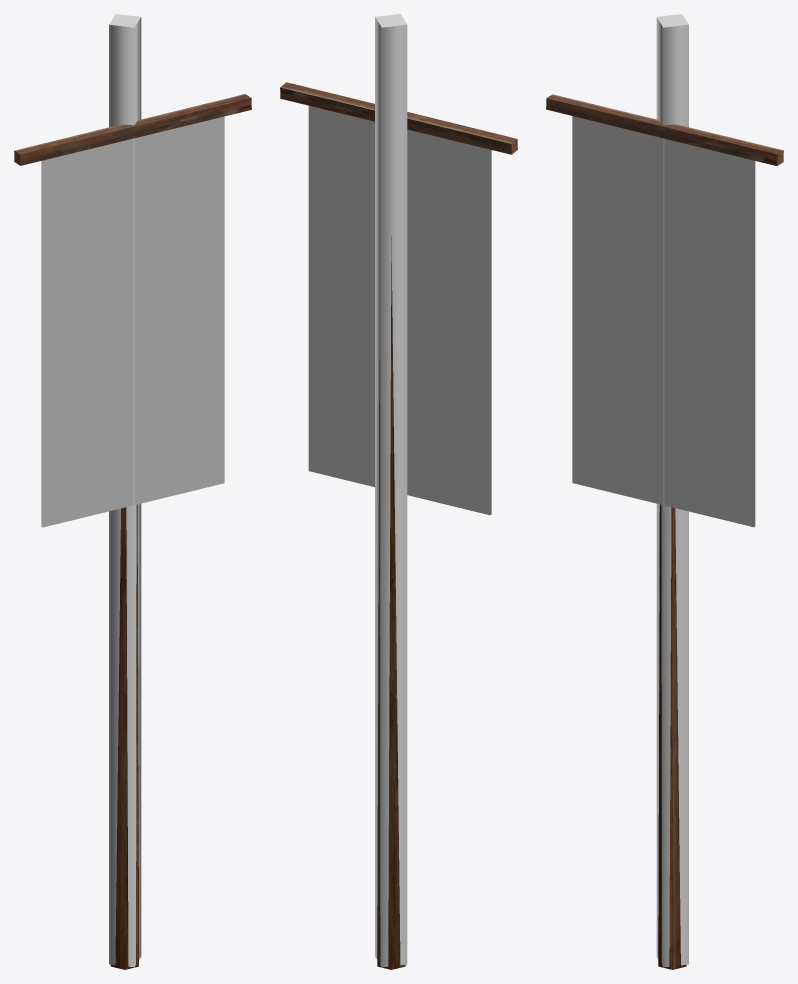
Rendered from YHJ_qizi.FBX.
The picture shows the model from 3 angles, left to right: view 1: azimuth 30°, elevation 25°; view 2: azimuth 150°, elevation 25°; view 3: azimuth 330°, elevation 25°; orthographic projection.
Visible parts, largest first — view 1: YHJ_qizi_b, YHJ_qizi_a-col, YHJ_qizi_a; view 2: YHJ_qizi_b, YHJ_qizi_a-col, YHJ_qizi_a; view 3: YHJ_qizi_b, YHJ_qizi_a-col, YHJ_qizi_a.
Boxes of the visible parts, <box> form: YHJ_qizi_b: <box>41,116,224,527</box>; YHJ_qizi_a-col: <box>109,14,141,967</box>; YHJ_qizi_a: <box>14,94,251,969</box>; YHJ_qizi_b: <box>308,105,491,515</box>; YHJ_qizi_a-col: <box>375,14,407,967</box>; YHJ_qizi_a: <box>280,82,517,969</box>; YHJ_qizi_b: <box>572,116,755,527</box>; YHJ_qizi_a-col: <box>656,14,688,967</box>; YHJ_qizi_a: <box>546,94,783,969</box>.
Bounding box in the file's own units: 1.76 × 6.86 × 0.2703.
